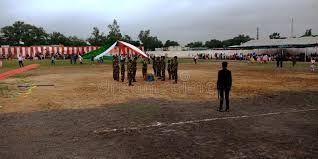uniform: (169, 54, 192, 88), (137, 58, 154, 82), (107, 54, 121, 80), (123, 54, 135, 84), (155, 54, 169, 79)
